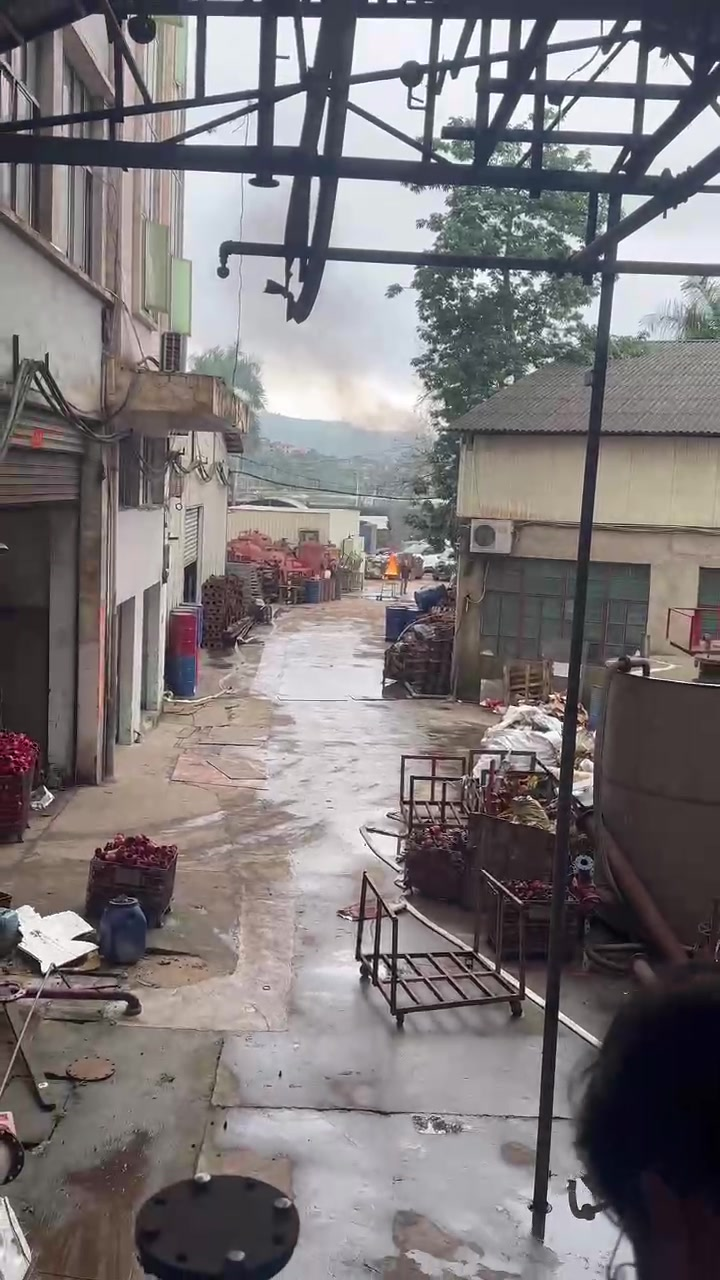fire: (385, 555, 396, 574)
